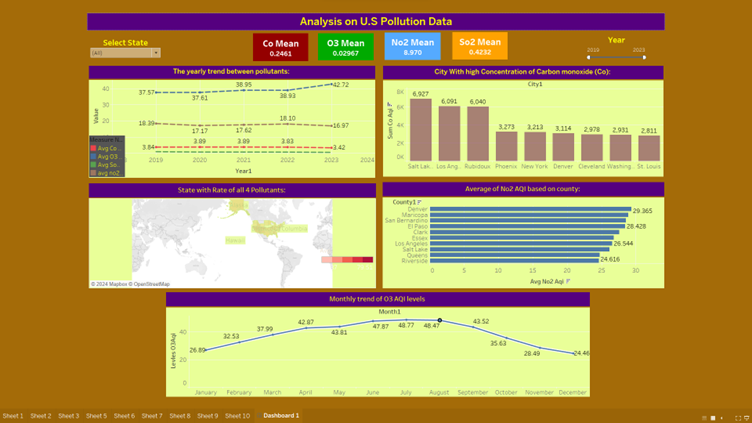

What the dashboard file says about the page in this screenshot:
{"tool":"tableau","page":{"name":"Dashboard 1","canvas":[1500,1000],"ordinal":0},"visuals":[{"type":"title","box":[8,8,1484,53]},{"type":"worksheet","title":"Sheet 10","mark":"Automatic","box":[945,61,141,70]},{"type":"worksheet","title":"Sheet 8","mark":"Automatic","box":[772,62,143,70]},{"type":"worksheet","title":"Sheet 7","mark":"Automatic","box":[436,64,141,71]},{"type":"worksheet","title":"Sheet 9","mark":"Automatic","box":[602,64,142,69]},{"type":"filter","title":"Sheet 1","param":"[federated.0ygwfhk1q2o9it11hl16n0y5221q].[none:year1:qk]","box":[1284,66,160,78]},{"type":"filter","title":"Sheet 6","param":"[federated.0ygwfhk1q2o9it11hl16n0y5221q].[none:state:nk]","box":[18,73,185,54]},{"type":"worksheet","title":"Sheet 1","mark":"Line","cols":["year1"],"box":[17,147,731,286]},{"type":"worksheet","title":"Sheet 2","mark":"Automatic","rows":["sum_co_aqi"],"cols":["city"],"box":[768,147,716,283]},{"type":"legend","title":"Sheet 1","param":"[federated.0ygwfhk1q2o9it11hl16n0y5221q].[:Measure Names]","box":[18,325,91,106]},{"type":"worksheet","title":"Sheet 5","mark":"Automatic","rows":["county"],"cols":["avg_no2_aqi"],"box":[767,444,719,271]},{"type":"worksheet","title":"Sheet 6","mark":"Automatic","box":[17,447,733,268]},{"type":"legend","title":"Sheet 6","param":"[federated.0ygwfhk1q2o9it11hl16n0y5221q].[sum:avg:qk]","box":[607,608,140,98]},{"type":"worksheet","title":"Sheet 3","mark":"Line","rows":["levles_o3aqi"],"cols":["month1"],"box":[214,725,1082,267]}]}

Visuals, with their boxes on the page's 1500x1000 design canvas (x1, y1, x2, y2). These are canvas units, not pixel positions in the 752x423 screenshot, which may show the page scaled, cropped or inside an application window:
title: pyautogui.locateOnScreen(8, 8, 1492, 61)
"Sheet 10" worksheet: pyautogui.locateOnScreen(945, 61, 1086, 131)
"Sheet 8" worksheet: pyautogui.locateOnScreen(772, 62, 915, 132)
"Sheet 7" worksheet: pyautogui.locateOnScreen(436, 64, 577, 135)
"Sheet 9" worksheet: pyautogui.locateOnScreen(602, 64, 744, 133)
"Sheet 1" filter: pyautogui.locateOnScreen(1284, 66, 1444, 144)
"Sheet 6" filter: pyautogui.locateOnScreen(18, 73, 203, 127)
"Sheet 1" worksheet (Line marks): pyautogui.locateOnScreen(17, 147, 748, 433)
"Sheet 2" worksheet: pyautogui.locateOnScreen(768, 147, 1484, 430)
"Sheet 1" legend: pyautogui.locateOnScreen(18, 325, 109, 431)
"Sheet 5" worksheet: pyautogui.locateOnScreen(767, 444, 1486, 715)
"Sheet 6" worksheet: pyautogui.locateOnScreen(17, 447, 750, 715)
"Sheet 6" legend: pyautogui.locateOnScreen(607, 608, 747, 706)
"Sheet 3" worksheet (Line marks): pyautogui.locateOnScreen(214, 725, 1296, 992)
